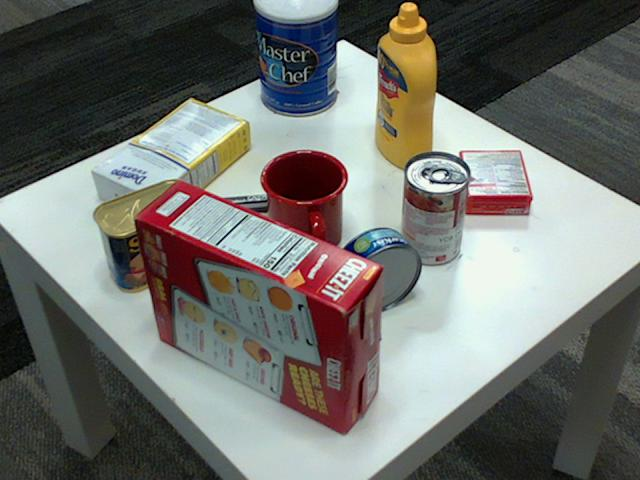cracker_box: (132, 179, 381, 431)
gelatin_box: (459, 150, 534, 212)
large_marker: (205, 190, 312, 218)
master_chef_can: (252, 0, 335, 115)
mug: (260, 146, 349, 254)
mustard_bottle: (375, 3, 434, 169)
potted_meat_can: (94, 178, 202, 292)
sugar_box: (92, 96, 251, 221)
tomato_soup_can: (400, 151, 469, 264)
tuna_fish_can: (333, 226, 422, 312)
